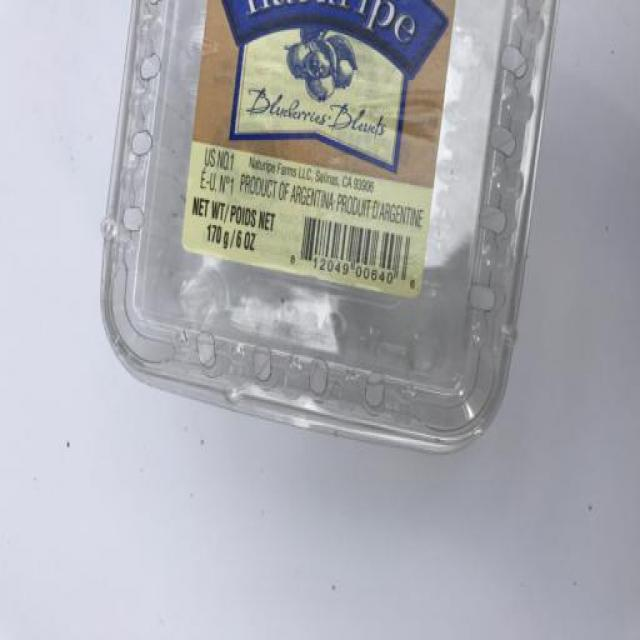plastic_bag: (71, 1, 572, 473)
